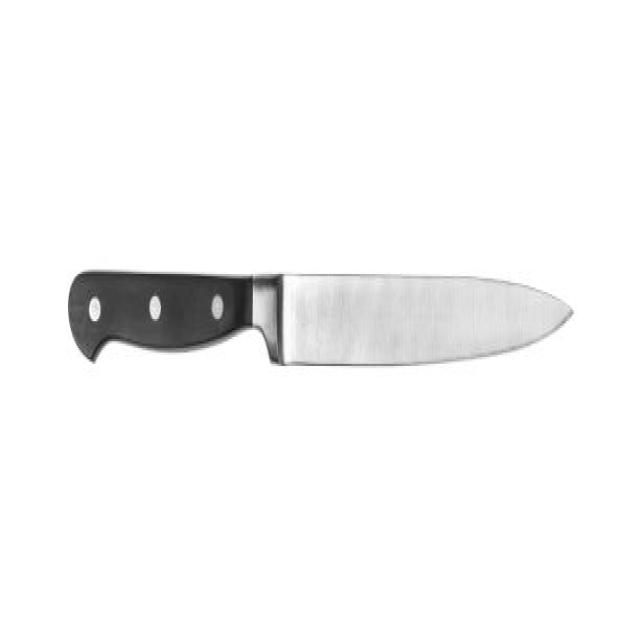knife: (66, 263, 574, 386)
